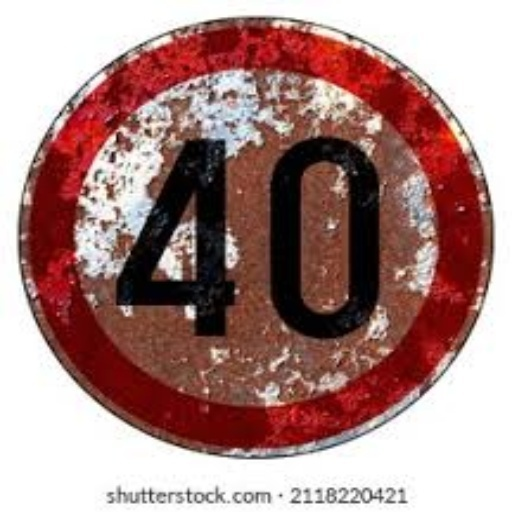Speed limit: (14, 23, 478, 464)
